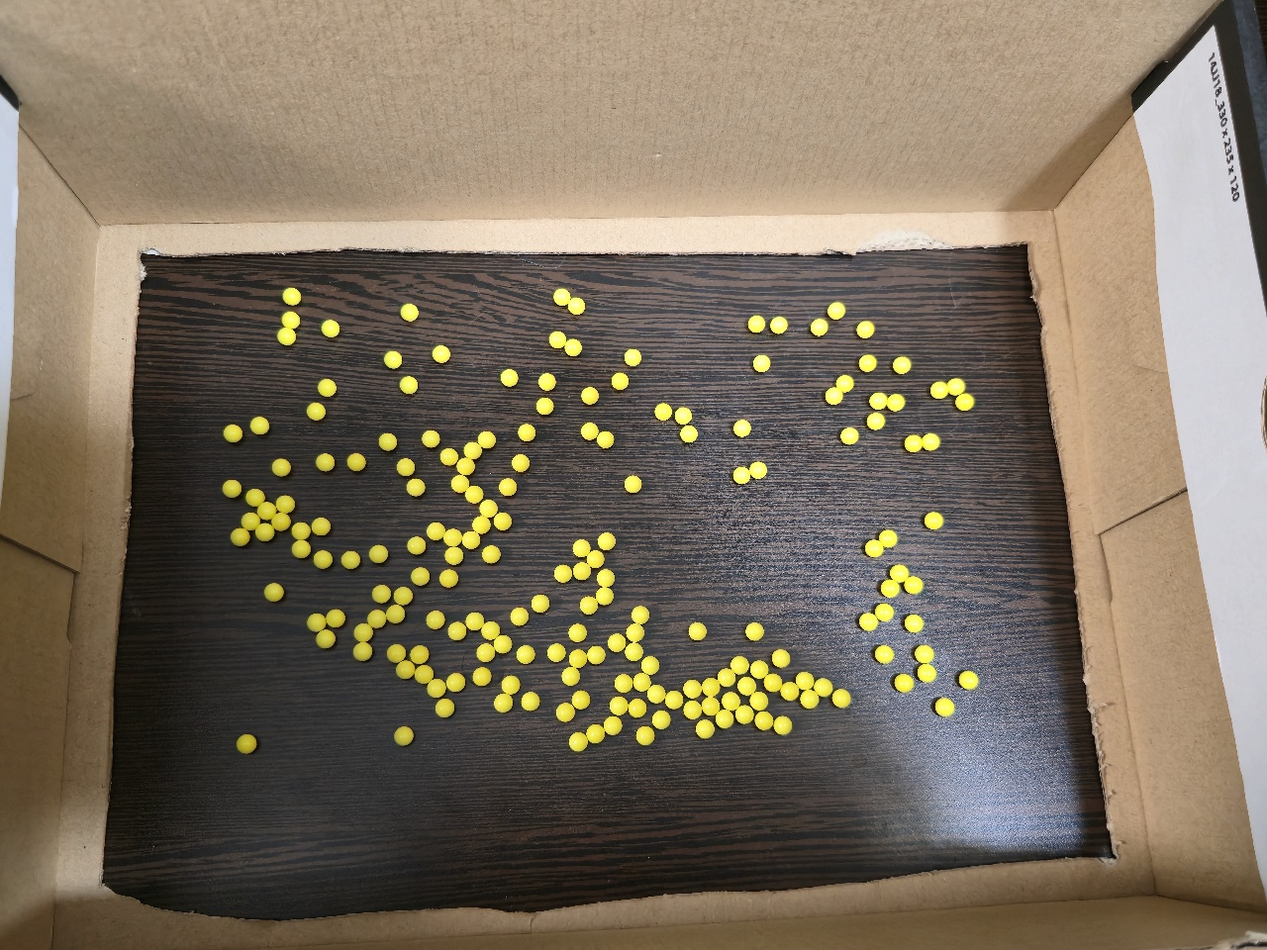yellow_bead: (829, 379, 850, 401), (498, 698, 509, 709), (836, 693, 847, 704), (899, 678, 910, 689), (963, 675, 974, 686), (879, 649, 890, 660), (909, 580, 920, 591), (640, 730, 650, 741), (700, 723, 710, 734), (656, 714, 666, 725), (720, 713, 730, 724), (939, 702, 950, 712), (614, 701, 624, 712), (754, 696, 764, 707), (526, 696, 536, 707), (805, 694, 815, 705), (688, 684, 698, 695), (818, 682, 828, 693), (741, 681, 752, 691), (922, 668, 932, 679), (919, 649, 930, 659), (485, 625, 496, 635), (909, 618, 920, 628), (863, 617, 874, 627), (879, 608, 890, 618), (885, 584, 896, 594), (897, 360, 908, 370), (573, 737, 583, 747), (399, 731, 409, 741), (778, 720, 788, 730), (608, 720, 618, 730), (759, 715, 769, 725), (688, 705, 698, 715), (706, 702, 716, 712), (669, 695, 679, 705), (651, 689, 661, 699), (785, 687, 795, 697), (706, 683, 716, 693), (619, 679, 629, 689), (450, 678, 460, 688), (800, 676, 810, 686), (477, 672, 487, 682), (419, 670, 429, 680), (754, 665, 764, 675), (357, 646, 367, 656), (498, 639, 508, 649), (584, 601, 594, 611), (601, 573, 611, 583), (345, 555, 355, 565), (373, 549, 383, 559), (228, 428, 238, 438), (934, 385, 944, 395), (637, 677, 646, 688), (566, 671, 575, 682), (894, 569, 905, 578), (869, 544, 880, 553), (883, 534, 894, 543), (959, 398, 970, 407), (281, 332, 292, 341), (739, 710, 749, 719), (560, 708, 570, 717), (439, 704, 449, 713), (726, 697, 735, 707), (432, 684, 441, 694), (768, 678, 777, 688), (722, 673, 731, 683), (400, 665, 409, 675), (734, 661, 744, 670), (645, 661, 655, 670), (776, 654, 786, 663), (592, 650, 601, 660), (415, 650, 424, 660), (551, 648, 561, 657), (481, 648, 491, 657), (612, 638, 622, 647), (358, 628, 368, 637), (750, 626, 759, 636), (693, 626, 702, 636), (312, 617, 321, 627), (515, 612, 525, 621), (536, 599, 545, 609), (600, 592, 610, 601), (398, 591, 407, 601), (376, 590, 386, 599), (443, 574, 453, 583), (415, 572, 425, 581), (558, 569, 568, 578), (577, 567, 587, 576), (318, 555, 328, 564), (486, 550, 496, 559), (296, 544, 306, 553), (447, 533, 457, 542), (259, 527, 269, 536), (296, 526, 306, 535), (250, 493, 260, 502), (469, 490, 479, 499), (411, 483, 421, 492), (455, 479, 465, 488), (909, 439, 919, 448), (926, 437, 936, 446), (684, 429, 694, 438), (254, 421, 264, 430), (871, 417, 881, 426), (311, 407, 321, 416), (322, 383, 332, 392), (951, 382, 961, 391), (404, 381, 414, 390), (863, 359, 873, 368), (388, 355, 398, 364), (326, 324, 336, 333), (815, 323, 825, 332), (774, 321, 784, 330), (286, 316, 296, 325), (831, 306, 841, 315), (557, 292, 566, 302), (287, 292, 297, 301), (631, 627, 639, 638), (390, 610, 401, 618), (928, 517, 939, 525), (242, 739, 251, 748), (573, 654, 582, 663), (521, 650, 530, 659), (391, 649, 400, 658), (321, 634, 330, 643), (573, 628, 582, 637), (452, 626, 461, 635), (470, 617, 479, 626), (331, 614, 340, 623), (269, 588, 278, 597), (591, 555, 600, 564), (449, 551, 458, 560), (577, 544, 586, 553), (412, 541, 421, 550), (602, 537, 611, 546), (466, 535, 475, 544), (431, 526, 440, 535), (261, 506, 270, 515), (484, 504, 493, 513), (737, 471, 746, 480), (754, 466, 763, 475), (401, 463, 410, 472), (276, 463, 285, 472), (461, 462, 470, 471), (516, 458, 525, 467), (351, 458, 360, 467), (321, 458, 330, 467), (468, 446, 477, 455), (383, 437, 392, 446), (601, 435, 610, 444), (482, 435, 491, 444), (427, 434, 436, 443), (845, 431, 854, 440), (679, 412, 688, 421), (659, 408, 668, 417), (540, 402, 549, 411), (892, 398, 901, 407), (874, 397, 883, 406), (542, 377, 551, 386), (505, 373, 514, 382), (757, 359, 766, 368), (553, 335, 562, 344), (861, 325, 870, 334), (752, 320, 761, 329), (405, 308, 414, 317), (572, 302, 581, 311), (591, 729, 599, 739), (506, 680, 514, 690), (630, 647, 638, 657), (372, 615, 382, 623), (316, 522, 326, 530), (476, 521, 486, 529), (227, 485, 237, 493), (737, 424, 747, 432), (633, 704, 641, 713), (635, 611, 644, 619), (498, 517, 507, 525), (503, 483, 512, 491), (629, 480, 637, 489), (444, 452, 453, 460), (585, 427, 594, 435), (585, 392, 594, 400), (616, 377, 625, 385), (629, 353, 637, 362), (437, 349, 445, 358), (569, 343, 577, 352), (280, 500, 290, 507), (431, 616, 439, 624), (523, 428, 531, 436), (245, 517, 254, 524), (236, 532, 244, 539), (277, 518, 284, 522), (579, 695, 583, 700), (580, 703, 582, 706)
